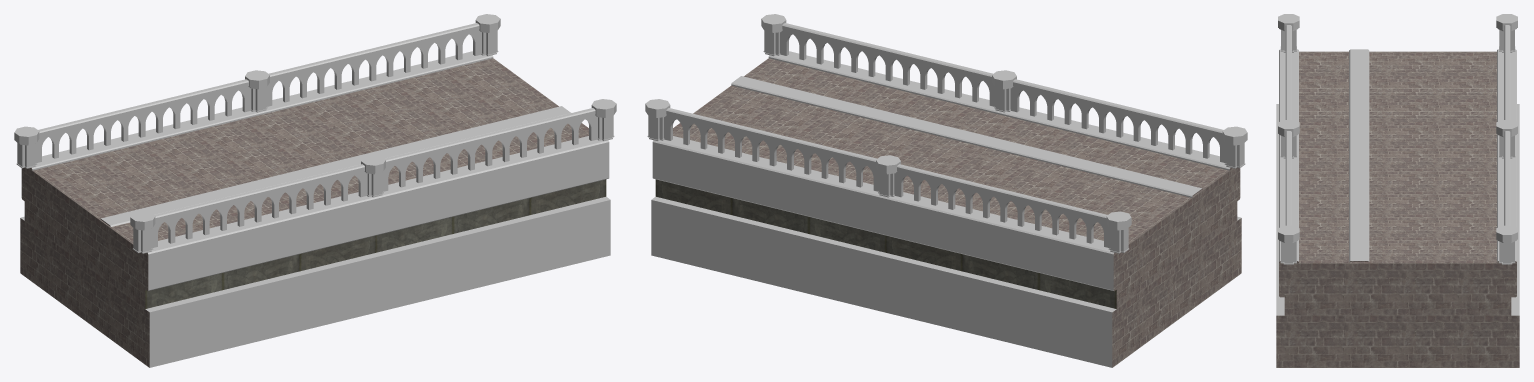
The model's file is bridge_deck_03.fbx.
3 renders of one model, left to right at view 1: azimuth 30°, elevation 25°; view 2: azimuth 150°, elevation 25°; view 3: azimuth 270°, elevation 25°, orthographic. The views are drawn at different scales.
Visible parts, largest first — view 1: bridge_deck_03; view 2: bridge_deck_03; view 3: bridge_deck_03.
Part boxes in pixels (left/top/right/bottom): bridge_deck_03: left=14, top=14, right=616, bottom=367; bridge_deck_03: left=645, top=14, right=1247, bottom=367; bridge_deck_03: left=1276, top=14, right=1519, bottom=367.
Size of the model in its own units: 657 by 191 by 306.
